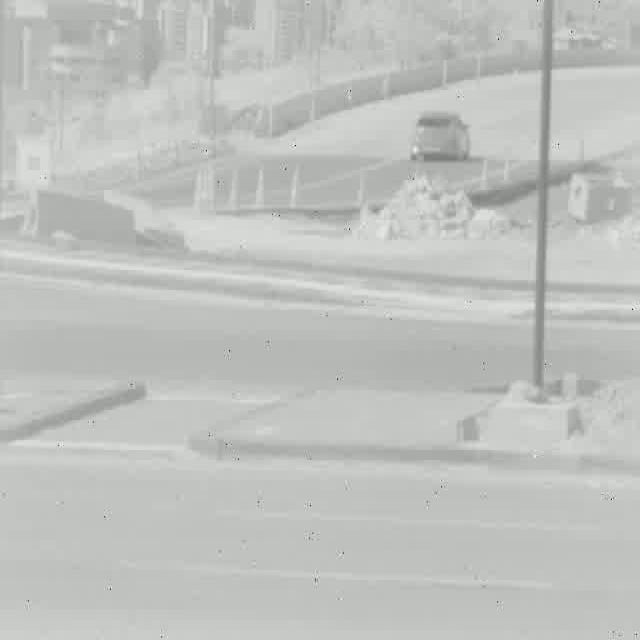Car: (410, 111, 469, 163)
